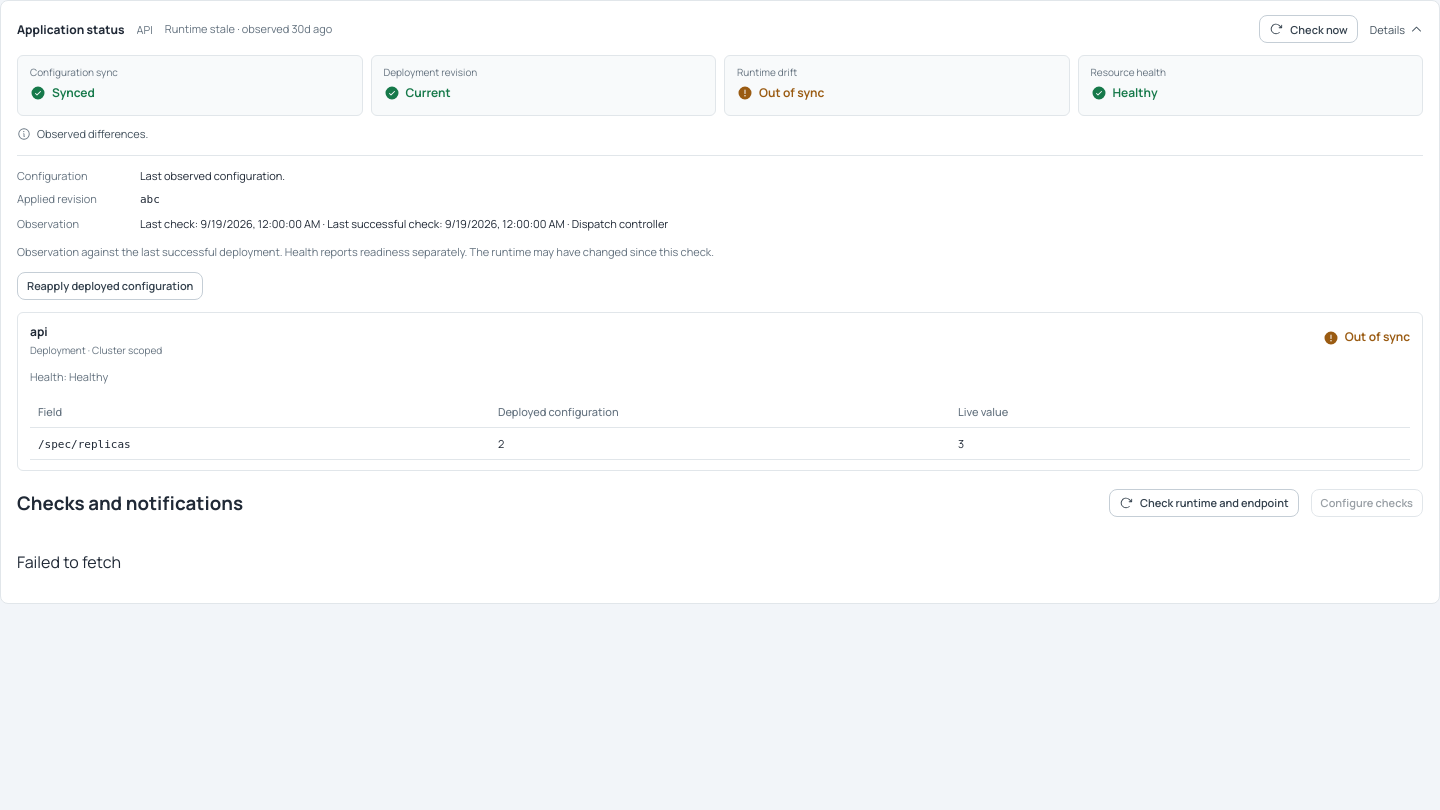
shows Unknown after a failed check while keeping the prior successful time
Click the button "Check now": (1309, 29) [1259,15,1358,43]
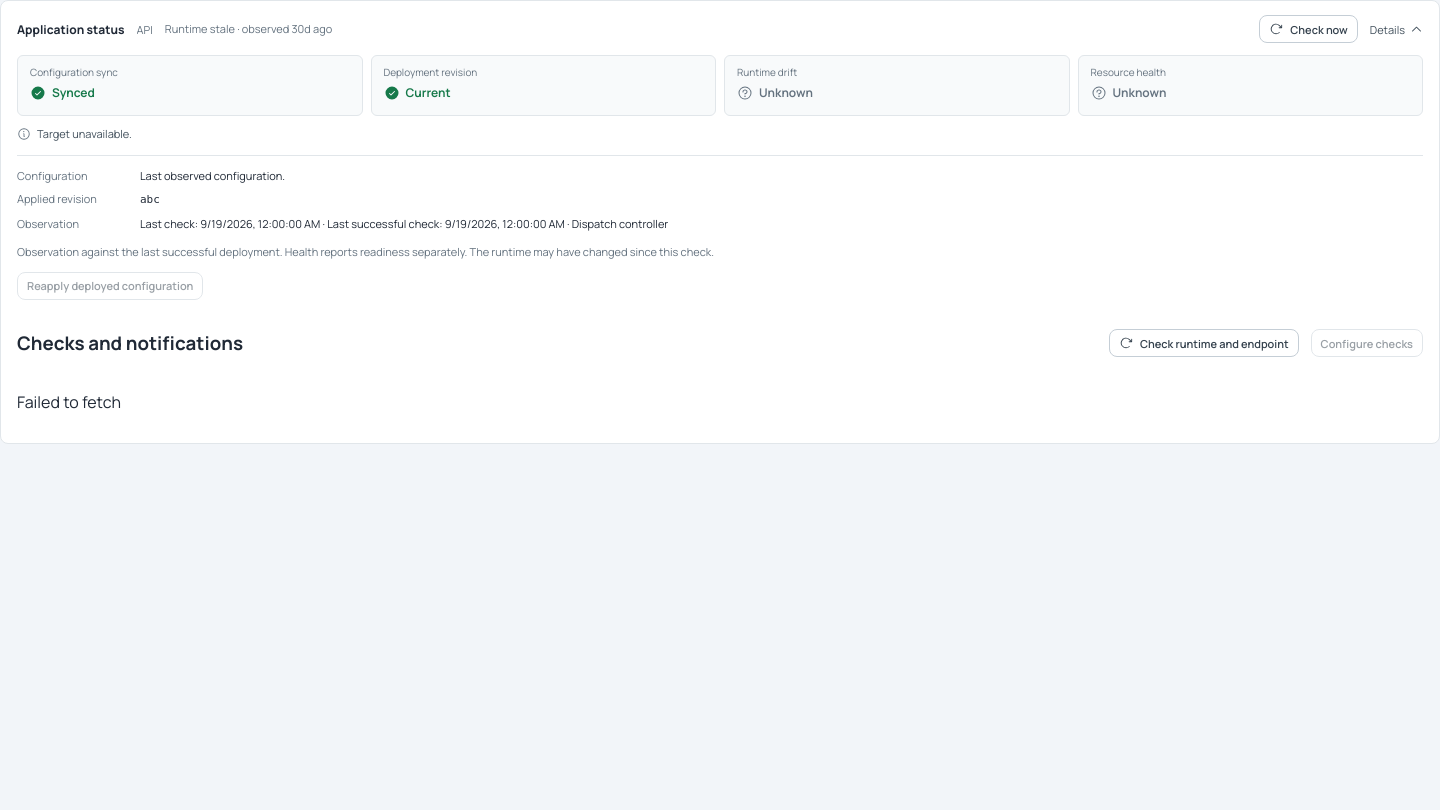
Now the text "Target unavailable." is shown, box [37,126,132,142]
Now the text "Unknown" is shown 2 times, box [737,85,813,101]; [1090,85,1166,101]
Now the button "Reapply deployed configuration" is disabled, box [17,272,203,300]
